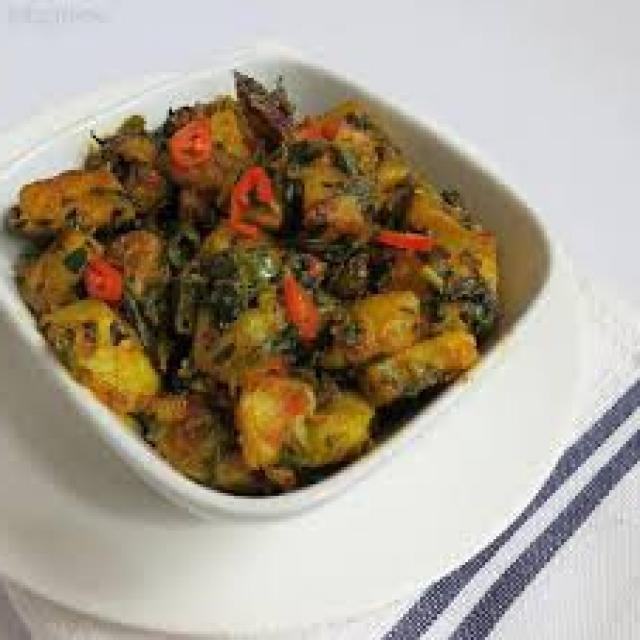Aloo Methi: (23, 73, 492, 492)
